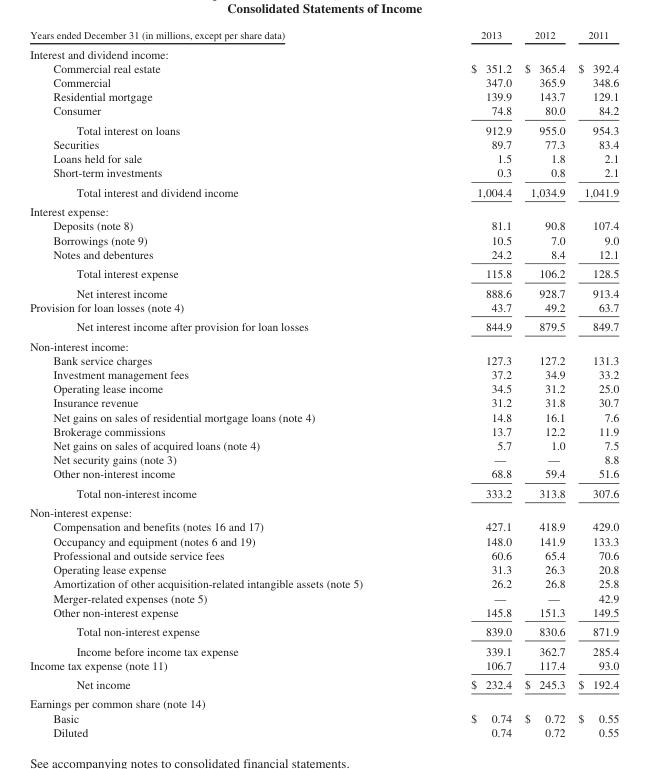table: (29, 28, 618, 738)
table column: (29, 28, 416, 738), (416, 28, 517, 738), (517, 28, 571, 738), (571, 28, 618, 738)
table column header: (29, 28, 618, 43)
table projected row header: (29, 43, 618, 60), (29, 201, 618, 218), (29, 335, 618, 352), (29, 502, 618, 519), (29, 693, 618, 710)
table row: (29, 182, 618, 201), (29, 263, 618, 282), (29, 316, 618, 335), (29, 483, 618, 502), (29, 621, 618, 640), (29, 674, 618, 693), (29, 43, 618, 60), (29, 103, 618, 120), (29, 165, 618, 182), (29, 201, 618, 218), (29, 246, 618, 263), (29, 282, 618, 299), (29, 299, 618, 316), (29, 335, 618, 352), (29, 466, 618, 483), (29, 502, 618, 519), (29, 604, 618, 621), (29, 640, 618, 657), (29, 657, 618, 674), (29, 693, 618, 710), (29, 120, 618, 136), (29, 28, 618, 43), (29, 74, 618, 89), (29, 136, 618, 151), (29, 366, 618, 381), (29, 423, 618, 438), (29, 547, 618, 562), (29, 60, 618, 74), (29, 89, 618, 103), (29, 151, 618, 165), (29, 218, 618, 232), (29, 232, 618, 246), (29, 352, 618, 366), (29, 381, 618, 395), (29, 395, 618, 409), (29, 409, 618, 423), (29, 438, 618, 452), (29, 452, 618, 466), (29, 519, 618, 533), (29, 533, 618, 547), (29, 562, 618, 576), (29, 576, 618, 590), (29, 590, 618, 604), (29, 710, 618, 724), (29, 724, 618, 738)
